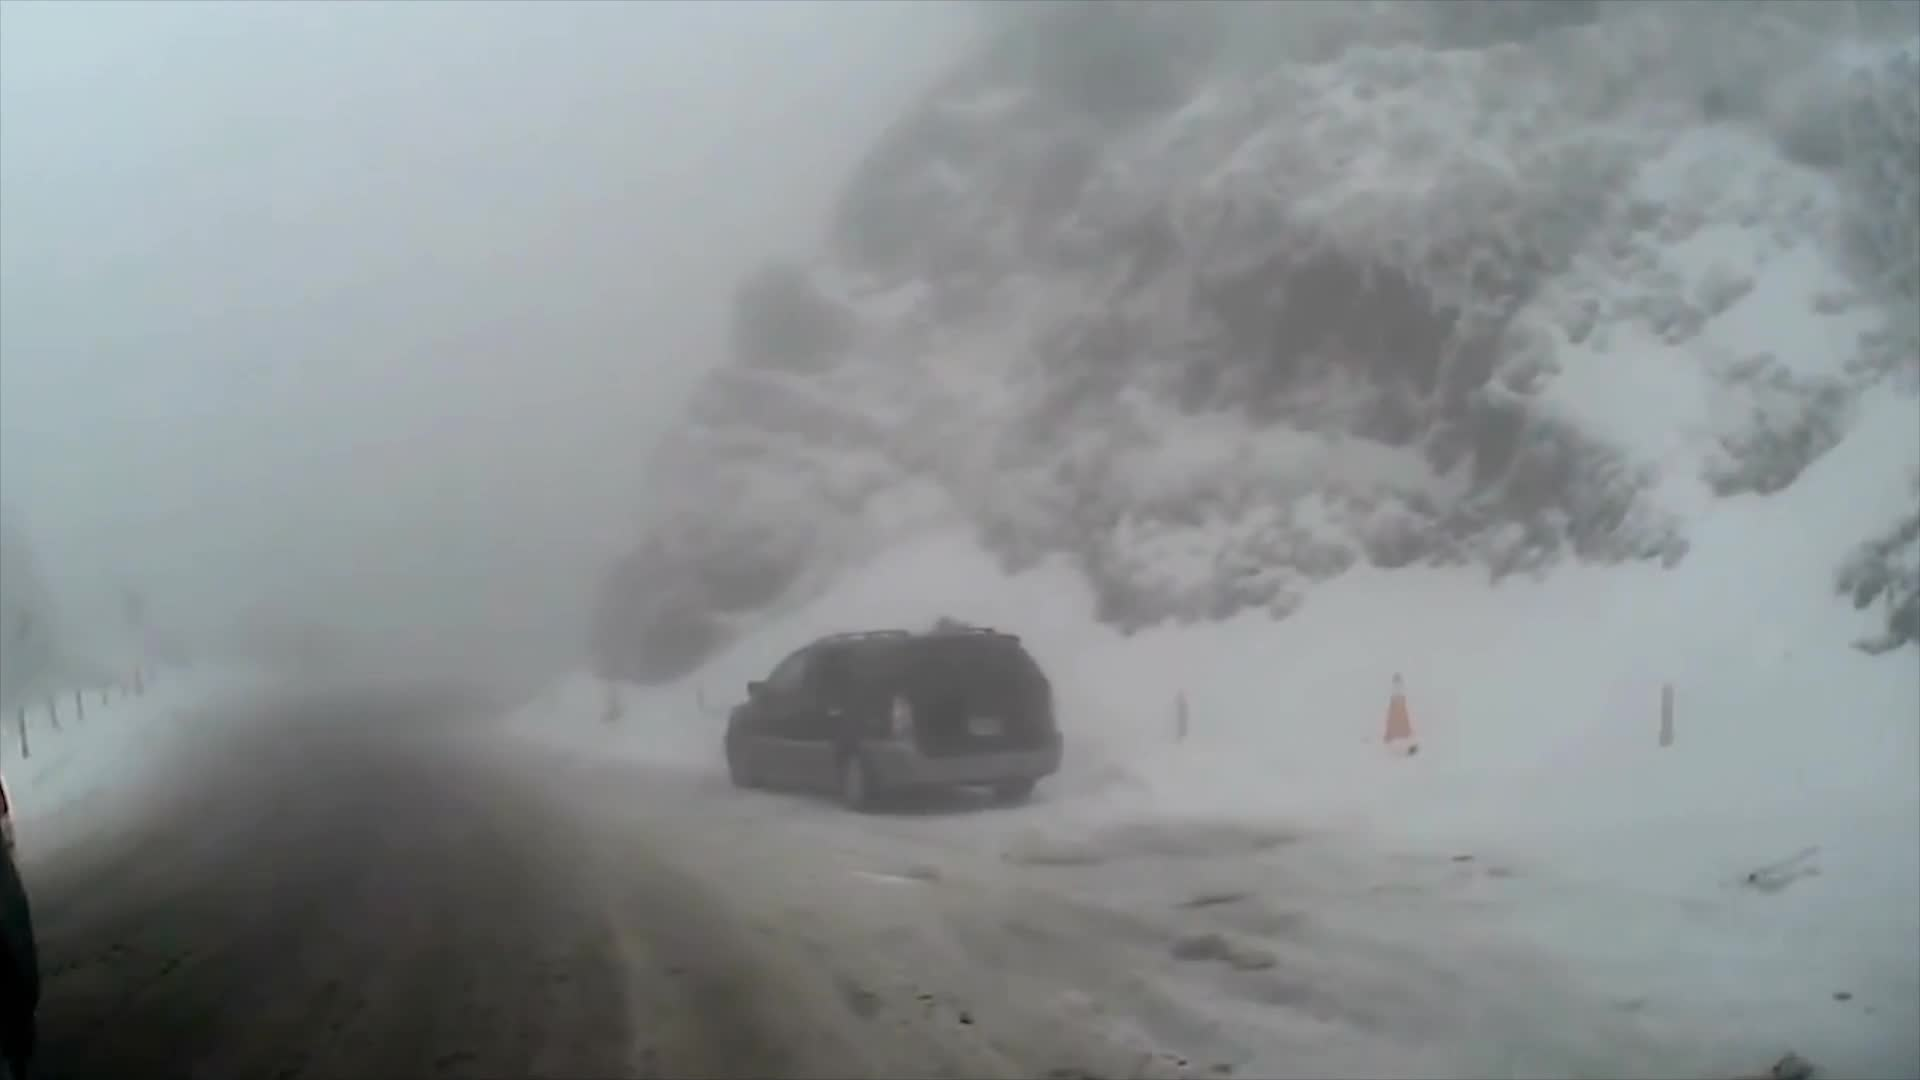vehicle: (723, 629, 1063, 814)
